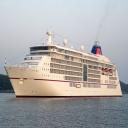cruises: (4, 26, 125, 100)
